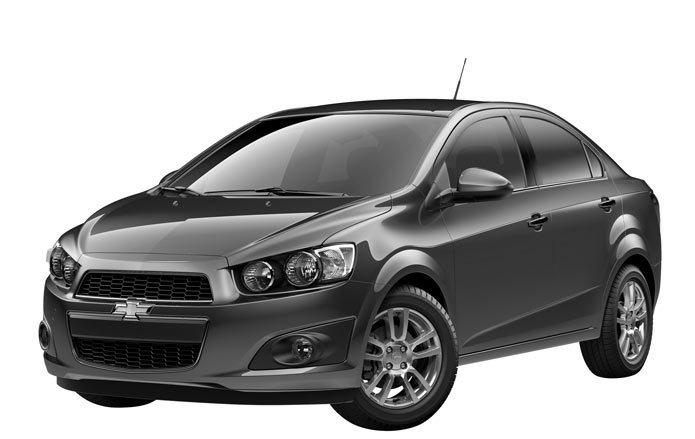car: (36, 59, 663, 436)
